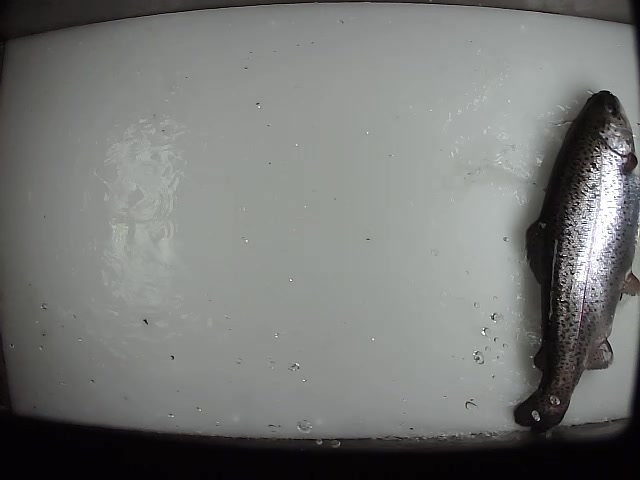Fish: (523, 91, 638, 431)
